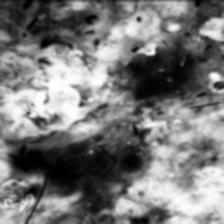Potentially Malignant Skin Tumors: (16, 112, 150, 208), (106, 28, 212, 108)
